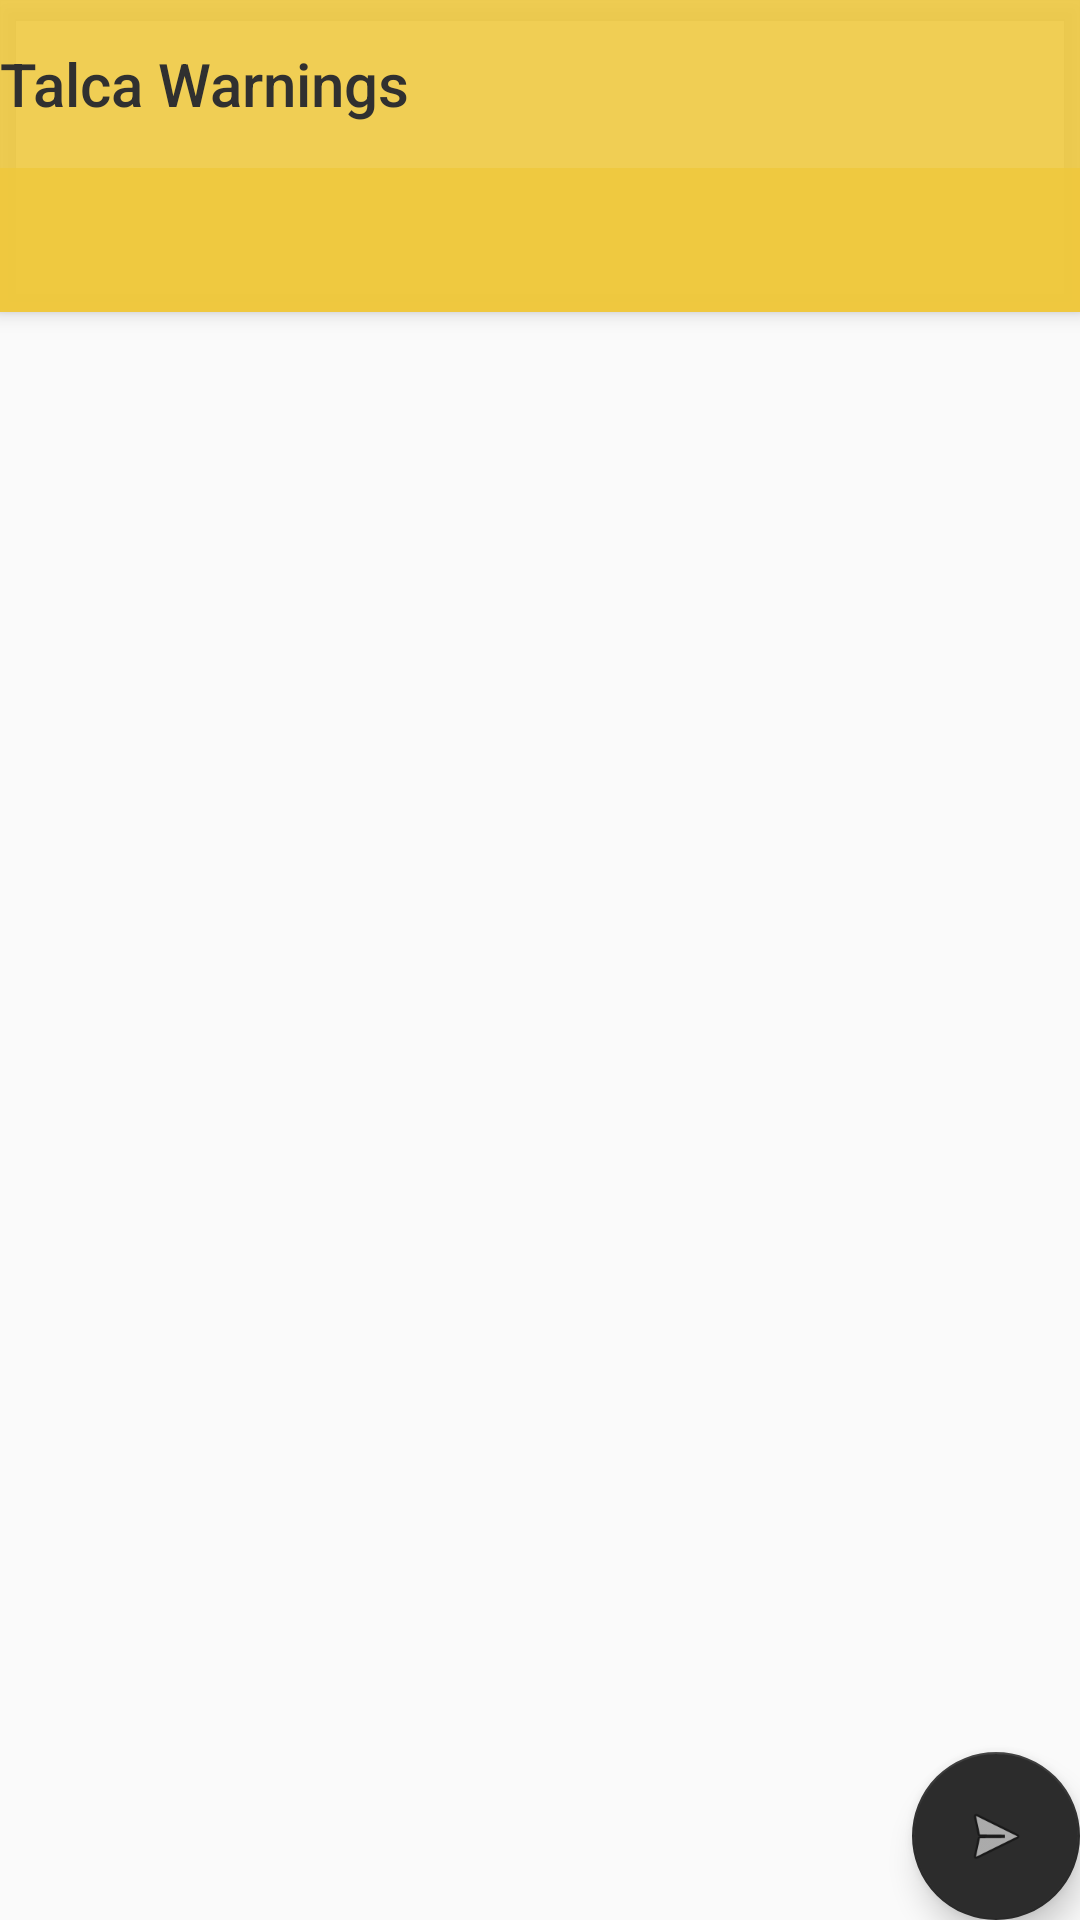

Named icons in this screenshot (1080w x 1920h) and their centers, [x,y]:
send: [996,1836]
